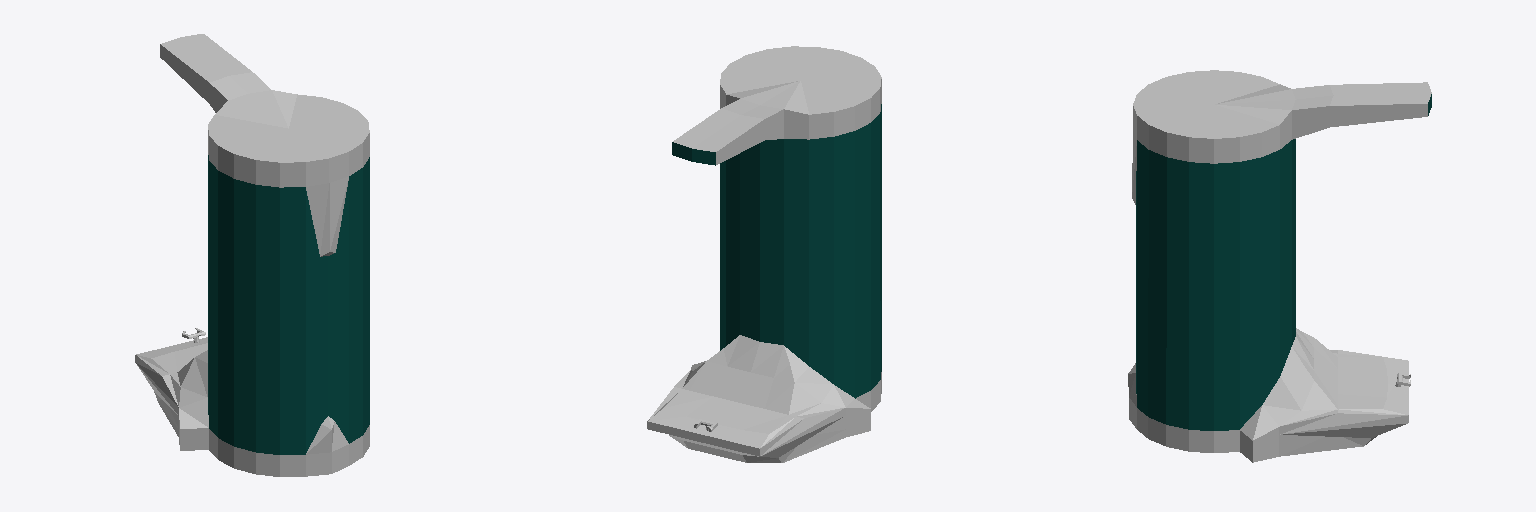
Rendered from Bridge_3Dmap.obj.
3 renders of one model, left to right at view 1: azimuth 30°, elevation 25°; view 2: azimuth 150°, elevation 25°; view 3: azimuth 270°, elevation 25°, orthographic.
Parts seen in each view (by area): view 1: default; view 2: default; view 3: default.
Part boxes in pixels (bbox=[...]): default: bbox=[135, 34, 369, 476]; default: bbox=[647, 46, 881, 462]; default: bbox=[1128, 70, 1431, 462].
Bounding box in the file's own units: 25.8 × 44.8 × 37.87.